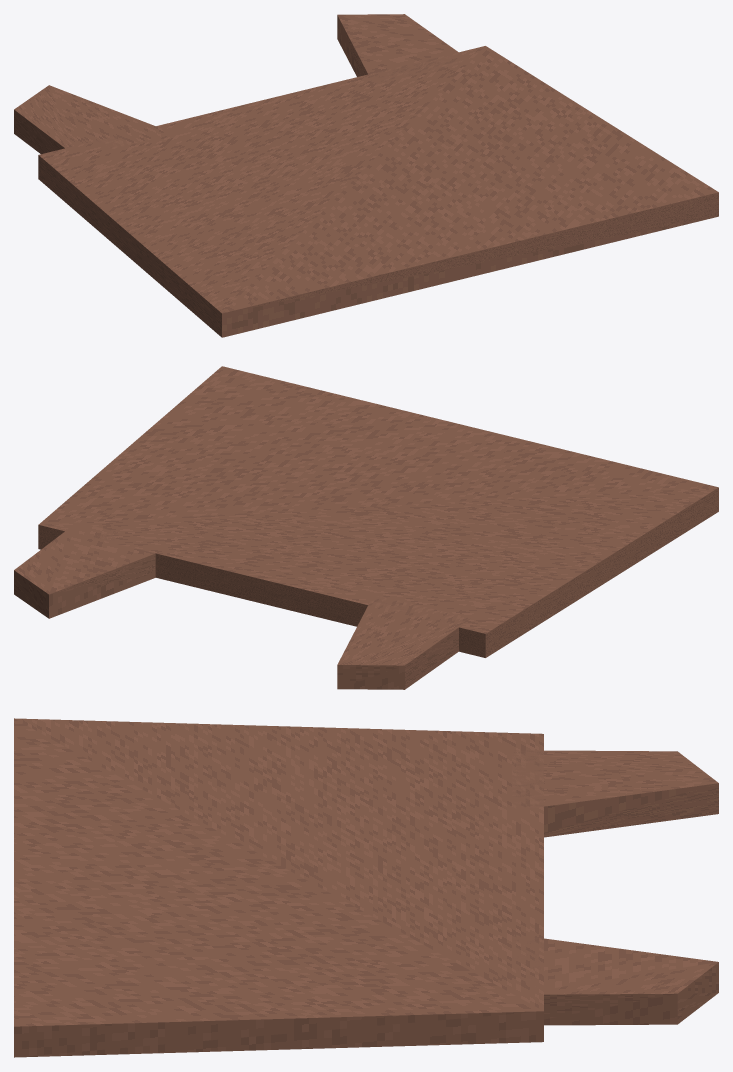
The model's file is camisole.glb.
3 views of the same model, one above another, from view 1: azimuth 30°, elevation 25°; view 2: azimuth 150°, elevation 25°; view 3: azimuth 270°, elevation 25° (orthographic). The views are drawn at different scales.
Parts seen in each view (by area): view 1: block_shirt torso, block_sleeve or strap -1, block_sleeve or strap 1; view 2: block_shirt torso, block_sleeve or strap -1, block_sleeve or strap 1; view 3: block_shirt torso, block_sleeve or strap -1, block_sleeve or strap 1.
Boxes of the visible parts, bbox=[...] form: block_shirt torso: bbox=[38, 46, 718, 337]; block_sleeve or strap -1: bbox=[14, 85, 174, 153]; block_sleeve or strap 1: bbox=[337, 14, 469, 84]; block_shirt torso: bbox=[38, 366, 718, 657]; block_sleeve or strap -1: bbox=[337, 594, 470, 689]; block_sleeve or strap 1: bbox=[14, 522, 155, 618]; block_shirt torso: bbox=[14, 718, 543, 1057]; block_sleeve or strap -1: bbox=[512, 750, 718, 837]; block_sleeve or strap 1: bbox=[513, 934, 718, 1025].
Bounding box in the file's own units: 0.3 × 0.014 × 0.29.
1 material, 1 textured.
